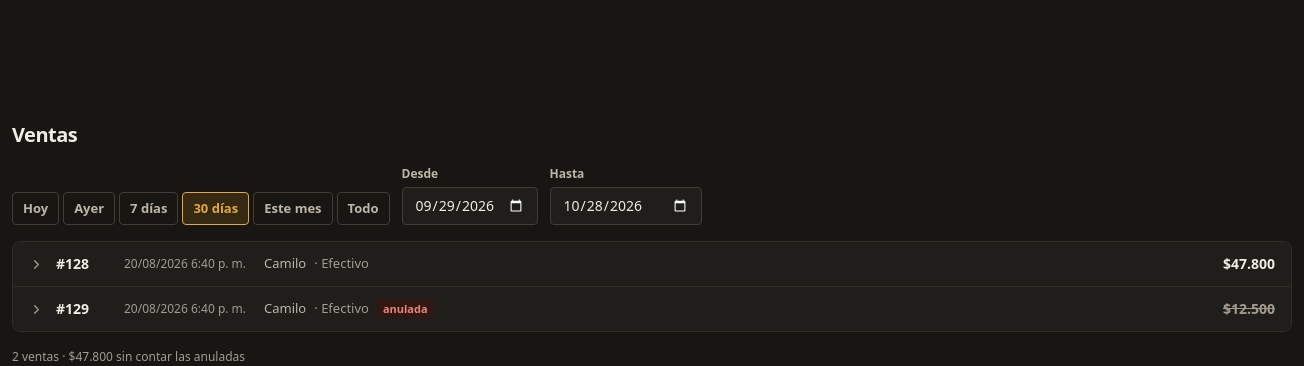
Test case: el detalle › en la anulada dice por qué se anuló
The width and height of the screenshot is (1304, 366).
(page scrolled)
Expected: the text "#128" is shown, [56,254,89,273]
Click the button "#129" at (185, 308), box [13,287,1291,331]
(page scrolled)
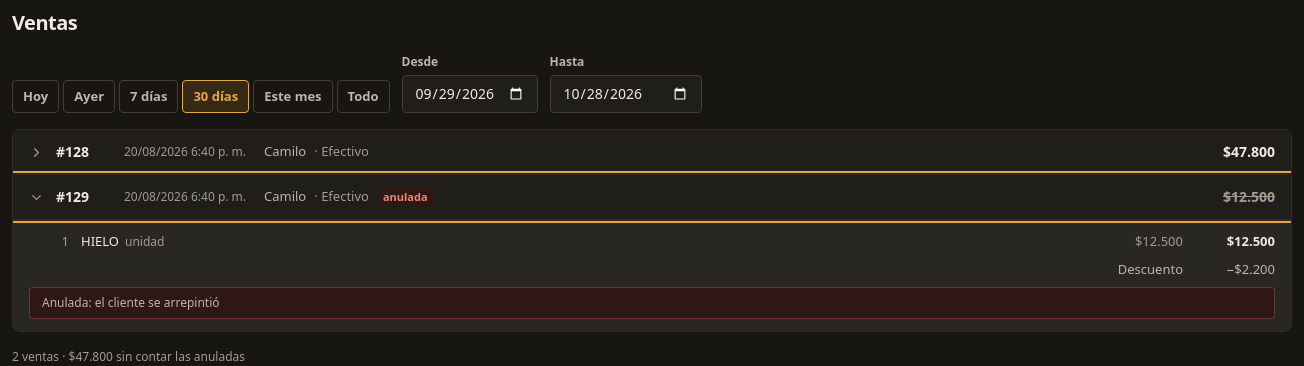
Expected: the text "Anulada: el cliente se arrepintió" is shown, [29,287,1275,319]
